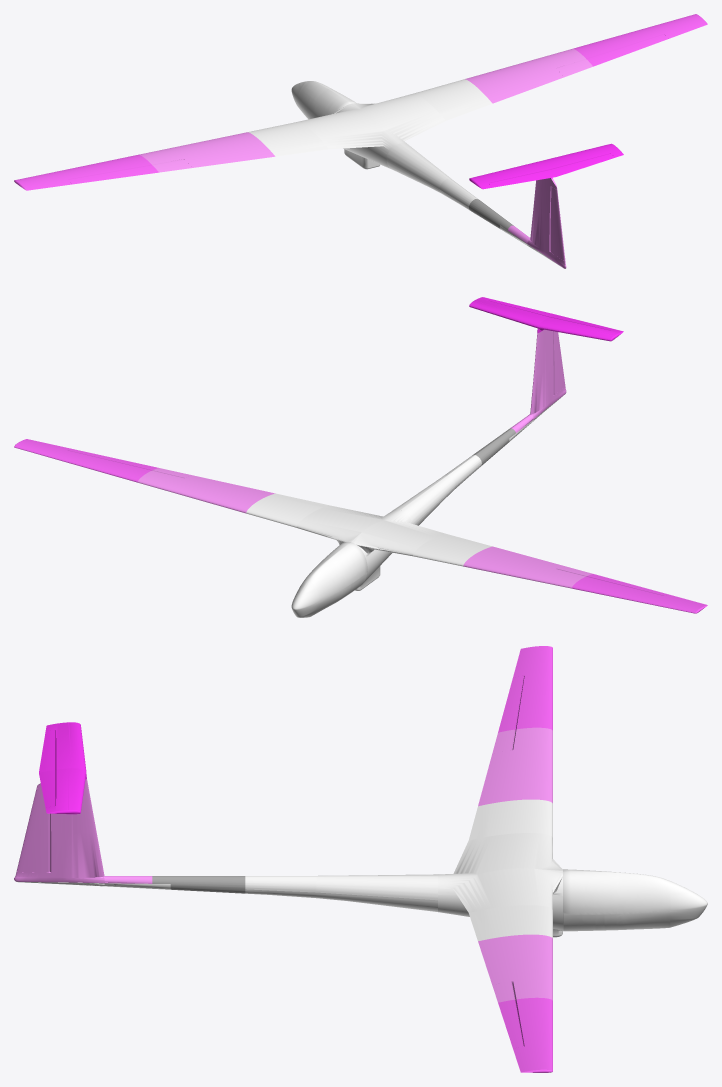
3 renders of one model, top to bottom at view 1: azimuth 30°, elevation 25°; view 2: azimuth 150°, elevation 25°; view 3: azimuth 270°, elevation 25°, orthographic. The views are drawn at different scales.
Visible parts, largest first — view 1: Mesh13 Difference1_3 Model, Mesh5 Difference1_1 Model, Mesh3 Intersection Model, Mesh6 Intersection1 Model, Mesh10 Union Model, Mesh4 Difference1 Model, Mesh7 Difference1_2 Model, Mesh2 Difference2 Model, Mesh1 Group1 Model, Mesh8 Difference Model, Mesh9 Difference12 Model, Mesh14 Union2 Model (+1 smaller); view 2: Mesh13 Difference1_3 Model, Mesh5 Difference1_1 Model, Mesh1 Group1 Model, Mesh3 Intersection Model, Mesh6 Intersection1 Model, Mesh10 Union Model, Mesh4 Difference1 Model, Mesh7 Difference1_2 Model, Mesh2 Difference2 Model, Mesh9 Difference12 Model, Mesh8 Difference Model, Mesh14 Union2 Model (+1 smaller); view 3: Mesh1 Group1 Model, Mesh5 Difference1_1 Model, Mesh10 Union Model, Mesh13 Difference1_3 Model, Mesh2 Difference2 Model, Mesh6 Intersection1 Model, Mesh3 Intersection Model, Mesh7 Difference1_2 Model, Mesh4 Difference1 Model, Mesh9 Difference12 Model, Mesh8 Difference Model, Mesh11 Difference2_1 Model (+1 smaller).
Part boxes in pixels (box(x1,y1,x2,y2)): Mesh13 Difference1_3 Model: box(248, 103, 399, 156); Mesh5 Difference1_1 Model: box(351, 79, 492, 143); Mesh3 Intersection Model: box(465, 48, 592, 103); Mesh6 Intersection1 Model: box(139, 132, 275, 172); Mesh10 Union Model: box(507, 178, 566, 268); Mesh4 Difference1 Model: box(573, 14, 707, 66); Mesh7 Difference1_2 Model: box(14, 154, 158, 190); Mesh2 Difference2 Model: box(386, 143, 478, 210); Mesh1 Group1 Model: box(291, 81, 356, 119); Mesh8 Difference Model: box(539, 143, 623, 178); Mesh9 Difference12 Model: box(469, 161, 555, 189); Mesh14 Union2 Model: box(343, 146, 390, 169); Mesh13 Difference1_3 Model: box(351, 510, 492, 566); Mesh5 Difference1_1 Model: box(246, 493, 399, 544); Mesh1 Group1 Model: box(291, 542, 367, 617); Mesh3 Intersection Model: box(137, 468, 275, 513); Mesh6 Intersection1 Model: box(463, 546, 592, 588); Mesh10 Union Model: box(510, 329, 566, 432); Mesh4 Difference1 Model: box(14, 439, 158, 482); Mesh7 Difference1_2 Model: box(572, 574, 707, 613); Mesh2 Difference2 Model: box(392, 455, 481, 525); Mesh9 Difference12 Model: box(537, 314, 623, 341); Mesh8 Difference Model: box(469, 297, 555, 332); Mesh14 Union2 Model: box(355, 522, 412, 590); Mesh1 Group1 Model: box(563, 869, 707, 931); Mesh5 Difference1_1 Model: box(438, 868, 562, 941); Mesh10 Union Model: box(14, 779, 152, 883); Mesh13 Difference1_3 Model: box(438, 799, 562, 876); Mesh2 Difference2 Model: box(245, 874, 437, 911); Mesh6 Intersection1 Model: box(478, 727, 552, 806); Mesh3 Intersection Model: box(478, 934, 552, 1002); Mesh7 Difference1_2 Model: box(498, 646, 552, 732); Mesh4 Difference1 Model: box(498, 997, 552, 1072); Mesh9 Difference12 Model: box(39, 722, 86, 772); Mesh8 Difference Model: box(39, 768, 86, 814); Mesh11 Difference2_1 Model: box(152, 876, 245, 893).
Size of the model in its own units: 12.33 by 2.26 by 8.51.
